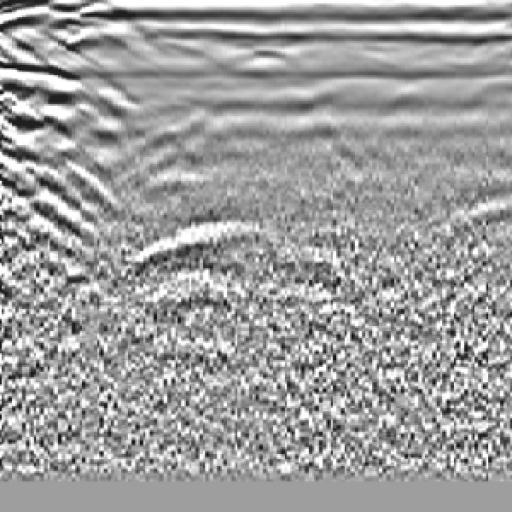non-metallic: (1, 27, 156, 327)
